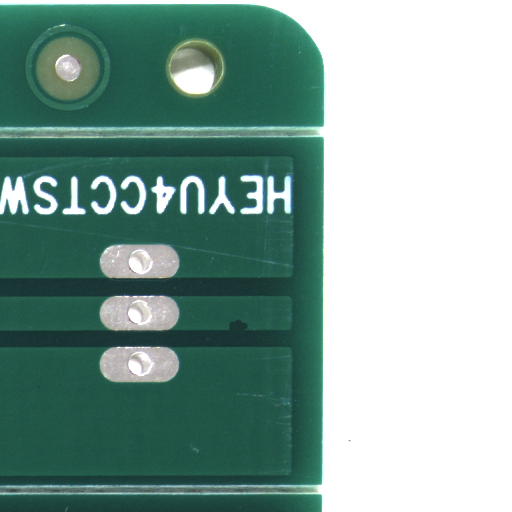Mouse_bite: (239, 325, 258, 336)
